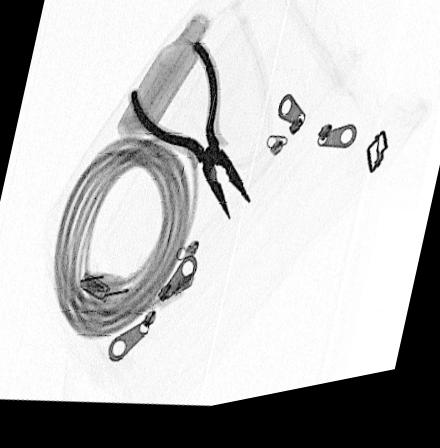Pliers: (128, 45, 252, 236)
